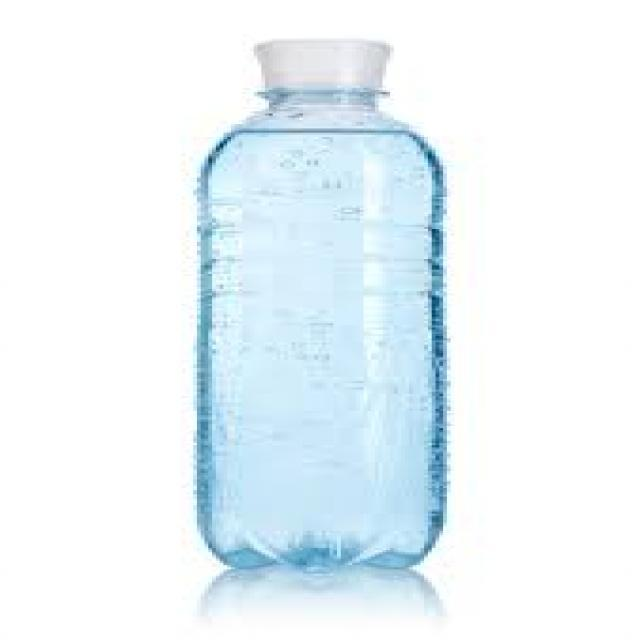Plastic: (202, 34, 457, 578)
